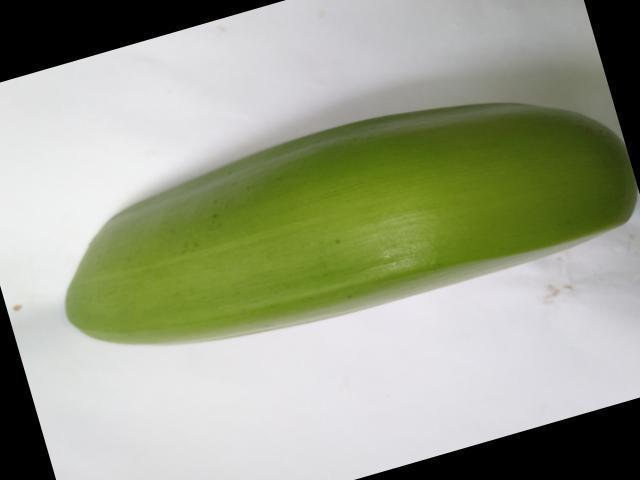freshunripe: (56, 85, 639, 351)
